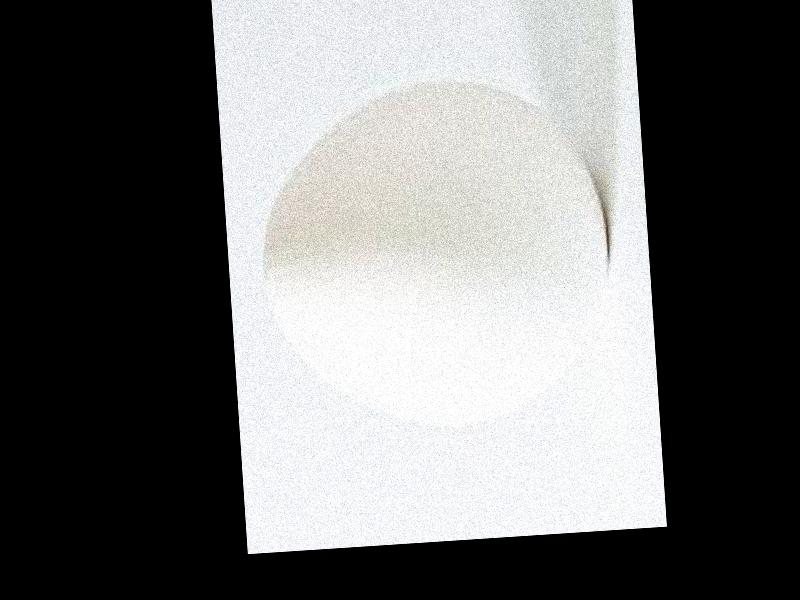Eggs: (250, 75, 618, 435)
